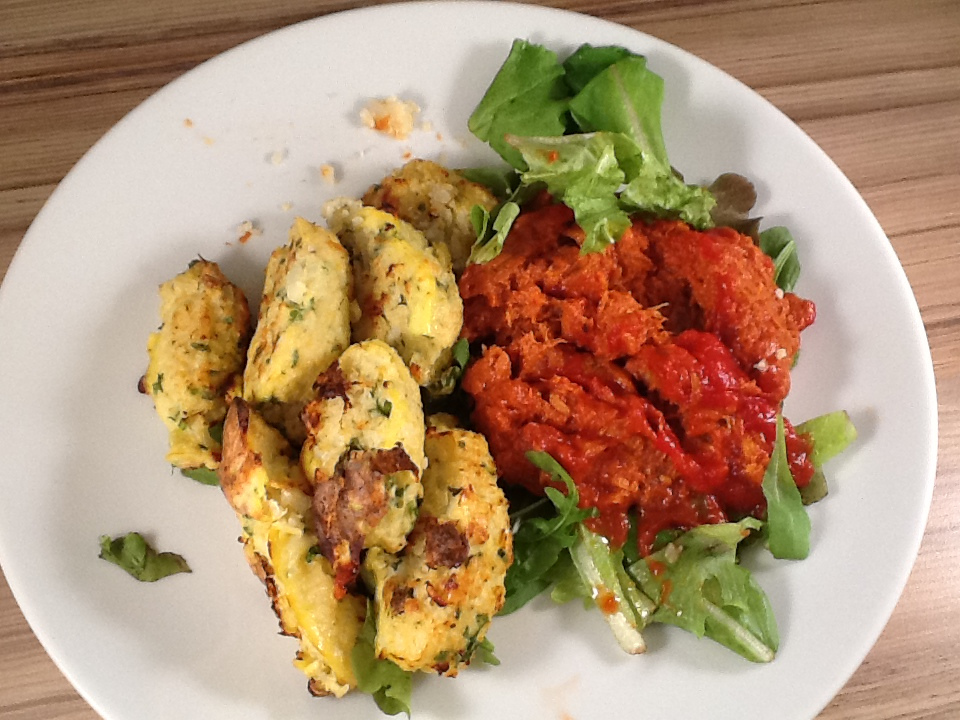chopped lettuce: (483, 42, 697, 208), (522, 522, 792, 650)
